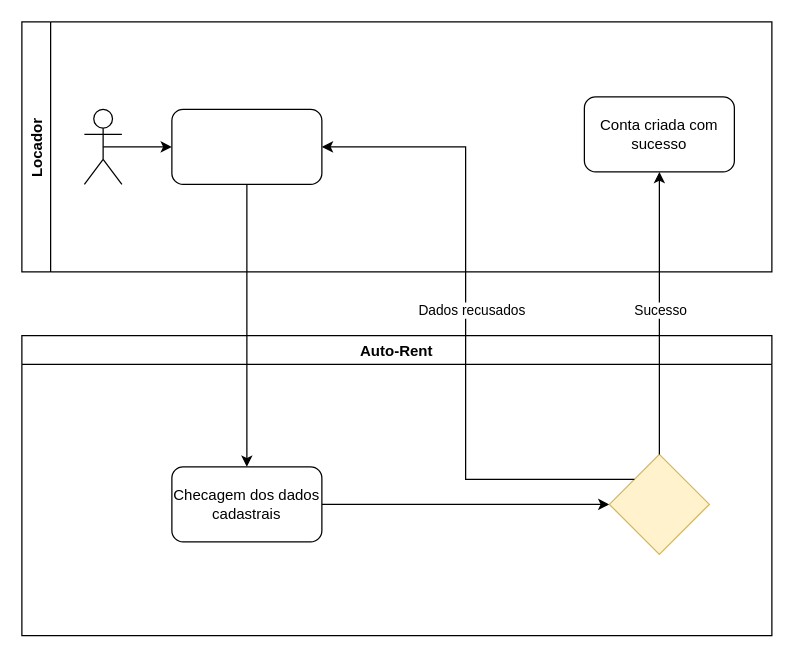
Some shapes in this 794 by 658 pixel diagram are drawn without their labels. The shapes that lost their labels are listed below. From the top down, each one's centre as x and y in pixels, then its label:
[246,146]: Informar dados obrigatórios
[658,503]: Dados validos
